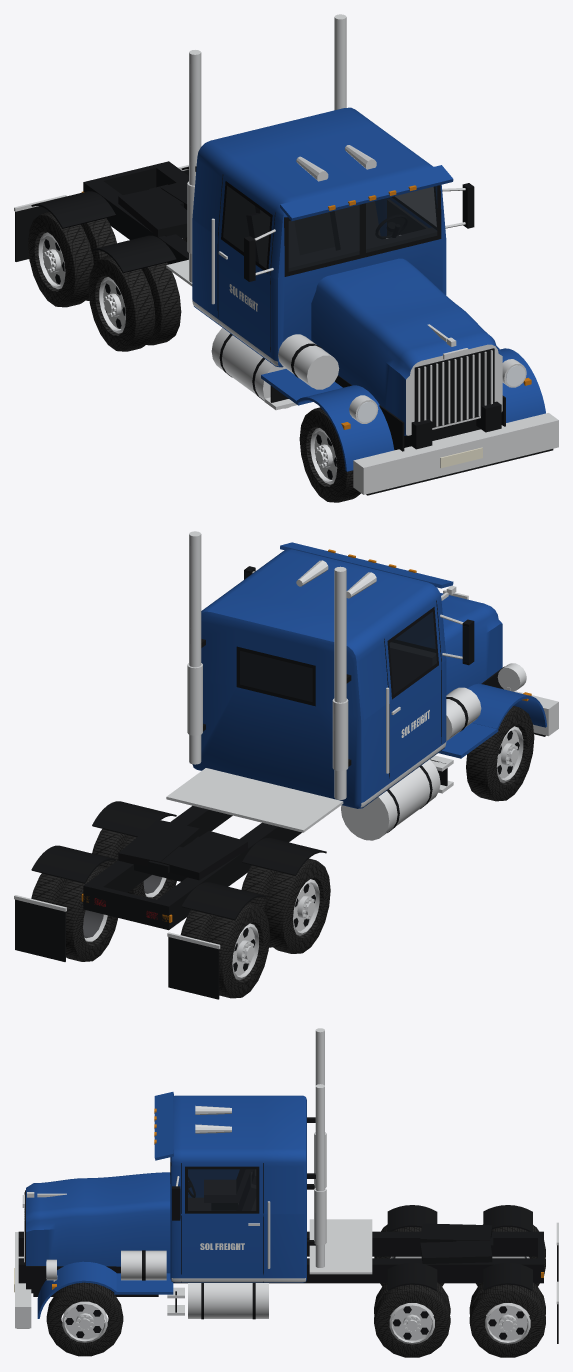
The model's file is car_truck.glb.
3 views of the same model, one above another, from view 1: azimuth 30°, elevation 25°; view 2: azimuth 150°, elevation 25°; view 3: azimuth 270°, elevation 25° (orthographic). The views are drawn at different scales.
Parts seen in each view (by area): view 1: Body, wheel_RR, wheel_RR2, wheel_FR, Door_L; view 2: Body, wheel_RR, wheel_RR2, wheel_FR, wheel_RL2, wheel_RL; view 3: Body, Door_L, wheel_RL, wheel_RL2, wheel_FL.
Part boxes in pixels (left/top/right/bottom): Body: left=14, top=14, right=558, bottom=495; wheel_RR: left=88, top=256, right=181, bottom=351; wheel_RR2: left=28, top=212, right=116, bottom=307; wheel_FR: left=299, top=407, right=360, bottom=502; Door_L: left=387, top=186, right=436, bottom=235; Body: left=14, top=531, right=558, bottom=999; wheel_RR: left=241, top=858, right=330, bottom=953; wheel_RR2: left=180, top=903, right=269, bottom=998; wheel_FR: left=466, top=706, right=534, bottom=801; wheel_RL2: left=31, top=866, right=117, bottom=961; wheel_RL: left=92, top=829, right=176, bottom=899; Body: left=14, top=1028, right=558, bottom=1343; Door_L: left=181, top=1162, right=263, bottom=1282; wheel_RL: left=374, top=1282, right=450, bottom=1357; wheel_RL2: left=469, top=1282, right=545, bottom=1357; wheel_FL: left=46, top=1282, right=123, bottom=1356.
Size of the model in its own units: 2.79 by 3.94 by 7.41.
13 materials, 1 textured.
